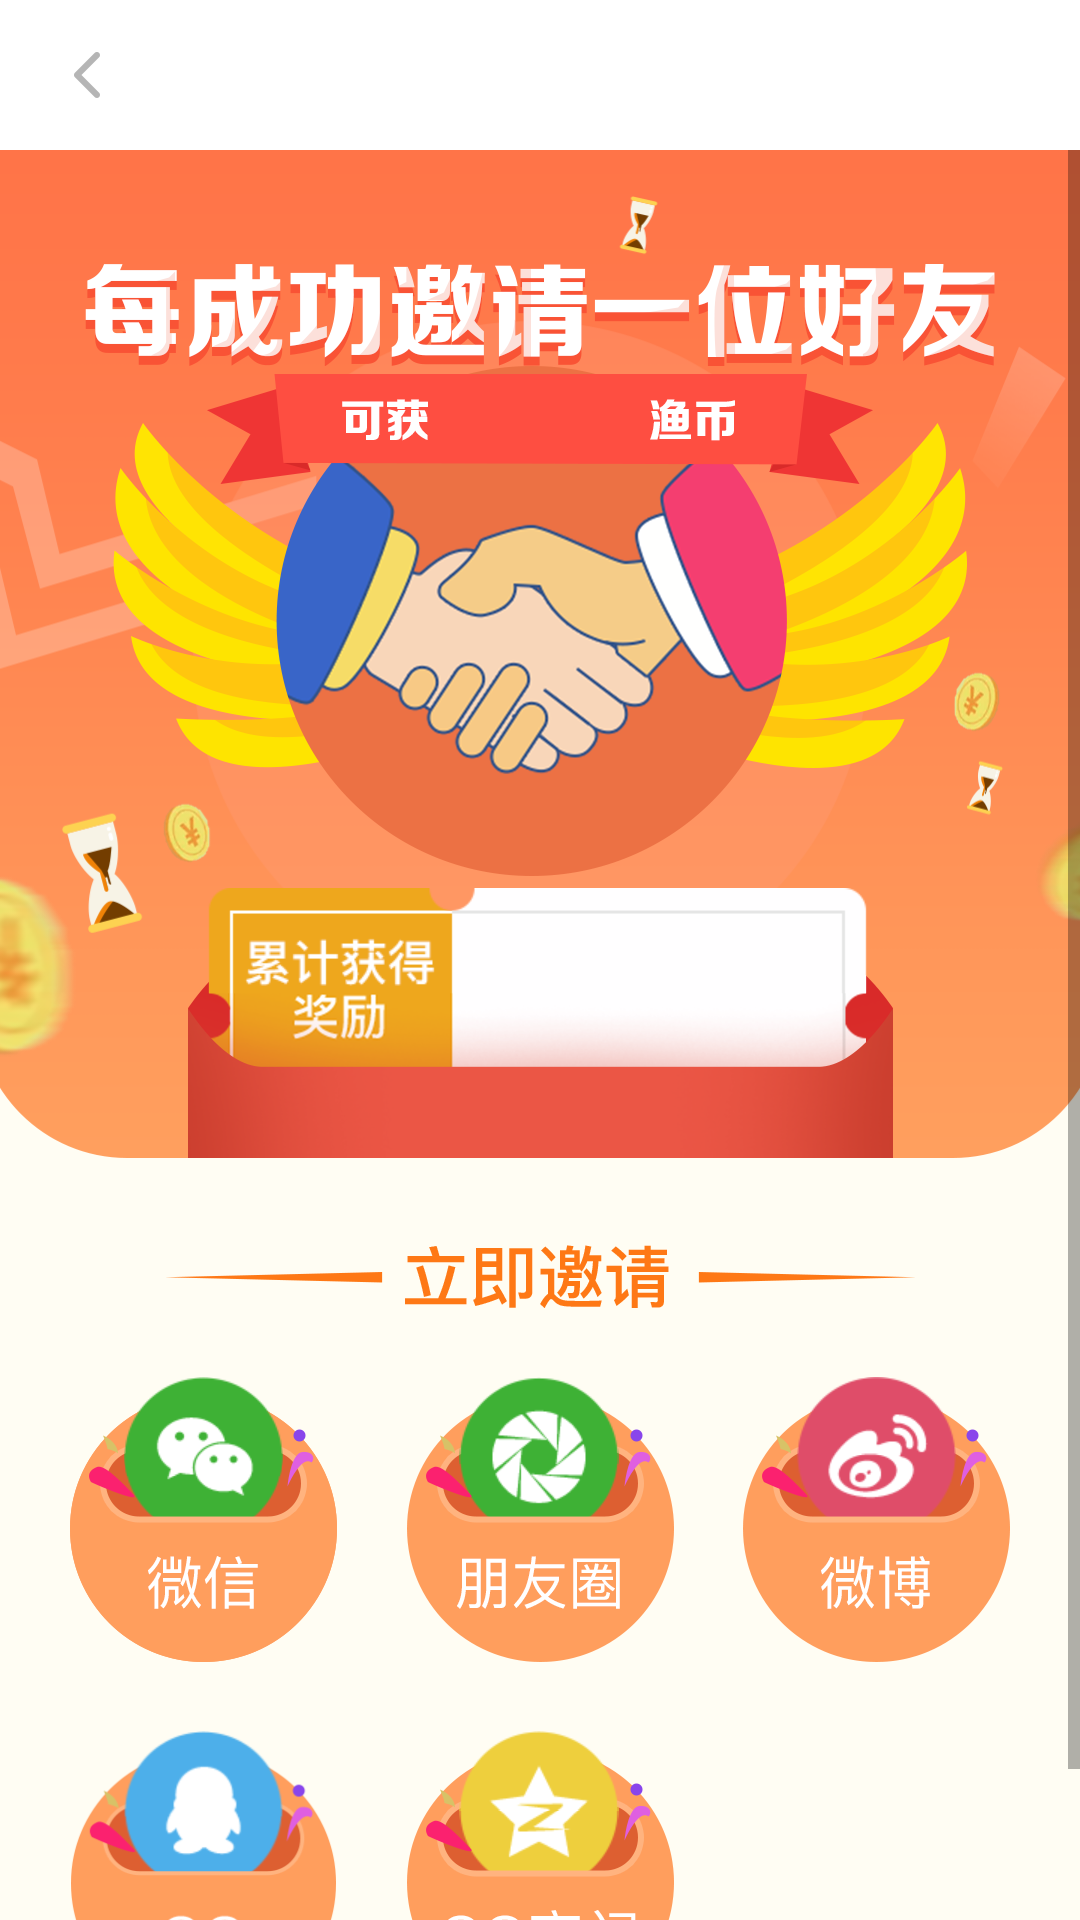

Named icons in this screenshot (1080×1920) and their centers, (x,y):
return: (87,75)
